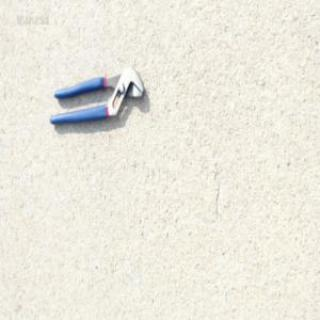Pliertrack_idkeyframe: (49, 64, 146, 127)
